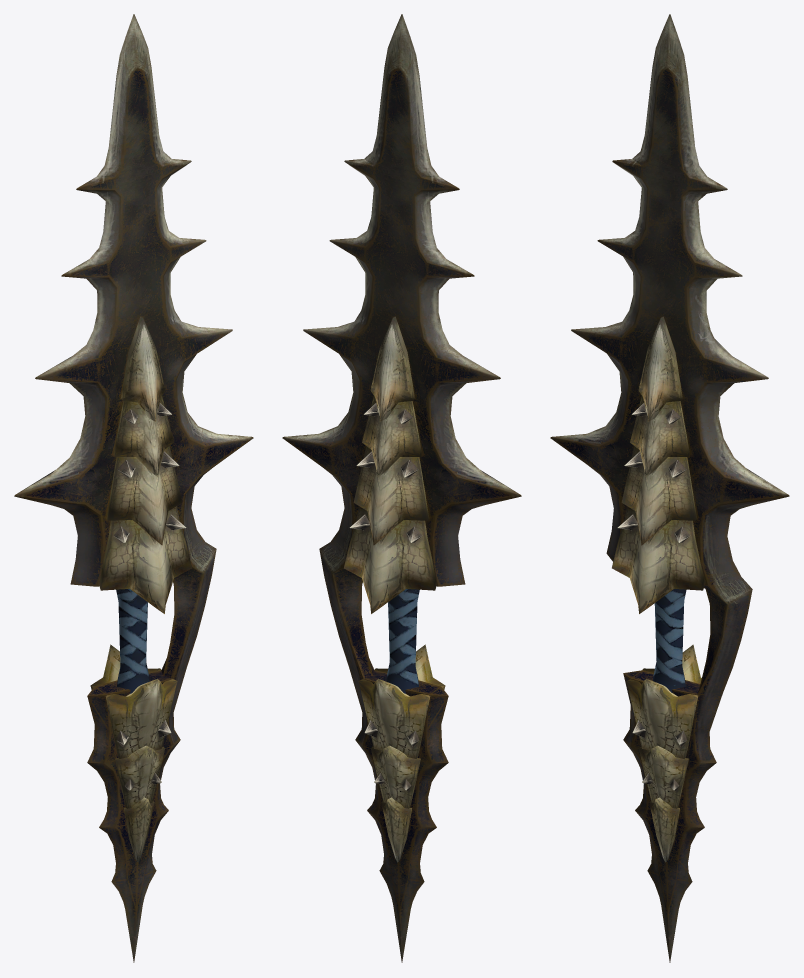
Rendered from one018.obj.
3 renders of one model, left to right at view 1: azimuth 30°, elevation 25°; view 2: azimuth 150°, elevation 25°; view 3: azimuth 330°, elevation 25°, orthographic.
Parts seen in each view (by area): view 1: one018_000_LOD_1, one018_002_LOD_1, one018_001_LOD_1; view 2: one018_000_LOD_1, one018_002_LOD_1, one018_001_LOD_1; view 3: one018_000_LOD_1, one018_002_LOD_1, one018_001_LOD_1.
Part boxes in pixels (x1=…): one018_000_LOD_1: x1=14, y1=14, x2=253, y2=962; one018_002_LOD_1: x1=90, y1=316, x2=191, y2=862; one018_001_LOD_1: x1=113, y1=403, x2=186, y2=790; one018_000_LOD_1: x1=282, y1=14, x2=521, y2=962; one018_002_LOD_1: x1=344, y1=316, x2=445, y2=862; one018_001_LOD_1: x1=349, y1=403, x2=422, y2=790; one018_000_LOD_1: x1=550, y1=14, x2=789, y2=962; one018_002_LOD_1: x1=612, y1=316, x2=705, y2=862; one018_001_LOD_1: x1=617, y1=403, x2=690, y2=790.
Size of the model in its own units: 40.98 by 155 by 18.25.
